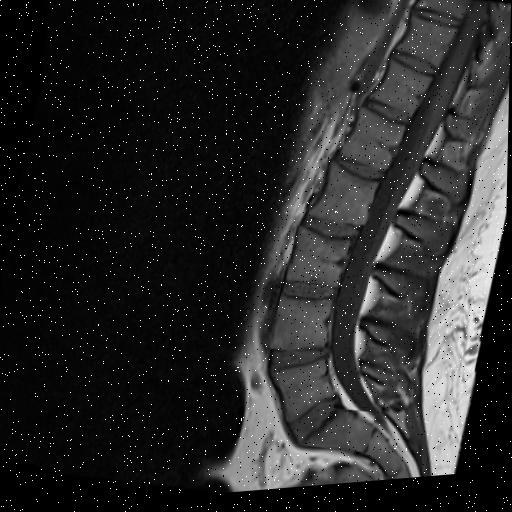L1: (342, 114, 406, 176)
L2: (308, 167, 378, 232)
L3: (287, 232, 351, 294)
L4: (271, 301, 334, 357)
L5: (275, 366, 336, 426)
S1: (303, 415, 375, 459)
